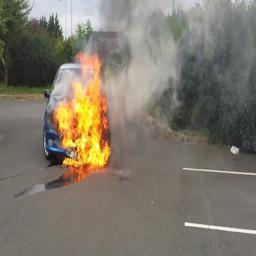fire: (53, 54, 113, 168)
